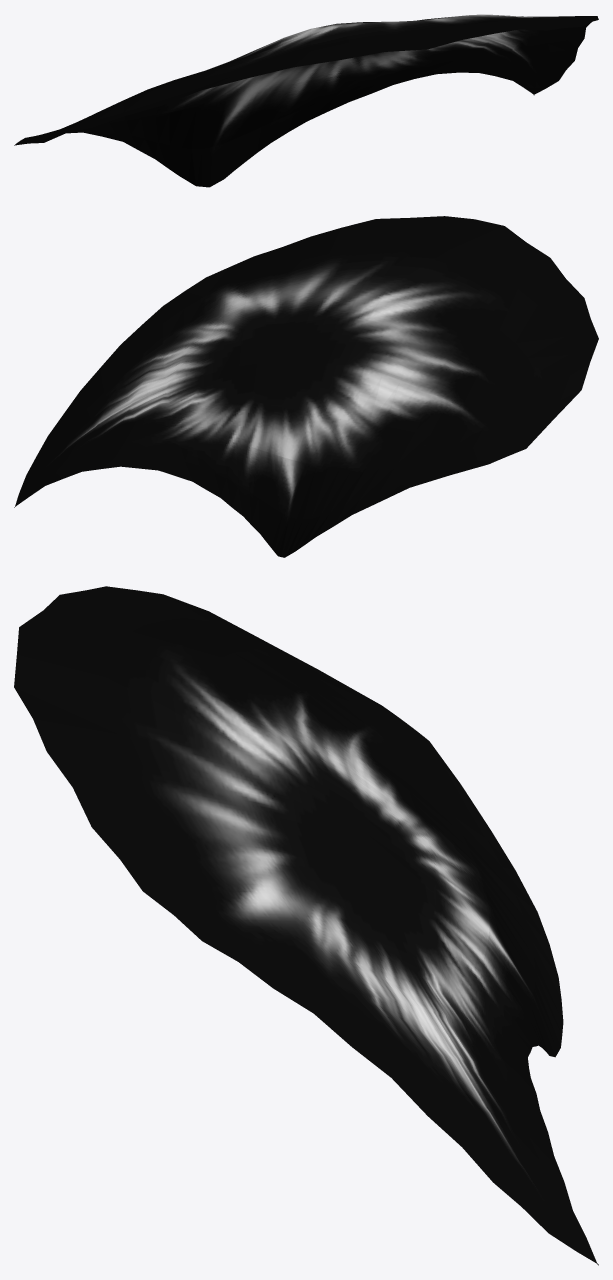
File: 0017_DM_FX_GeMaShou_fw_z01.glb
3 renders of one model, top to bottom at view 1: azimuth 30°, elevation 25°; view 2: azimuth 150°, elevation 25°; view 3: azimuth 270°, elevation 25°, orthographic. The views are drawn at different scales.
Size of the model in its own units: 2.2 by 1.04 by 1.44.
Materials: 1 (1 with a texture image).
